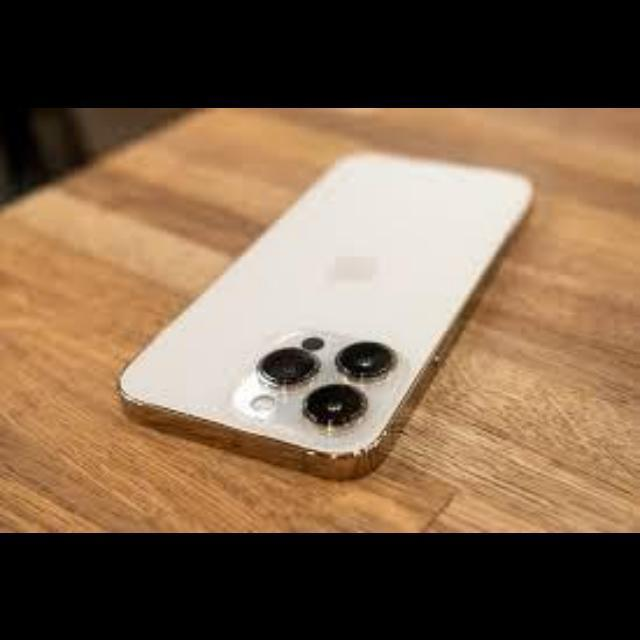PhoneUse: (121, 152, 535, 480)
